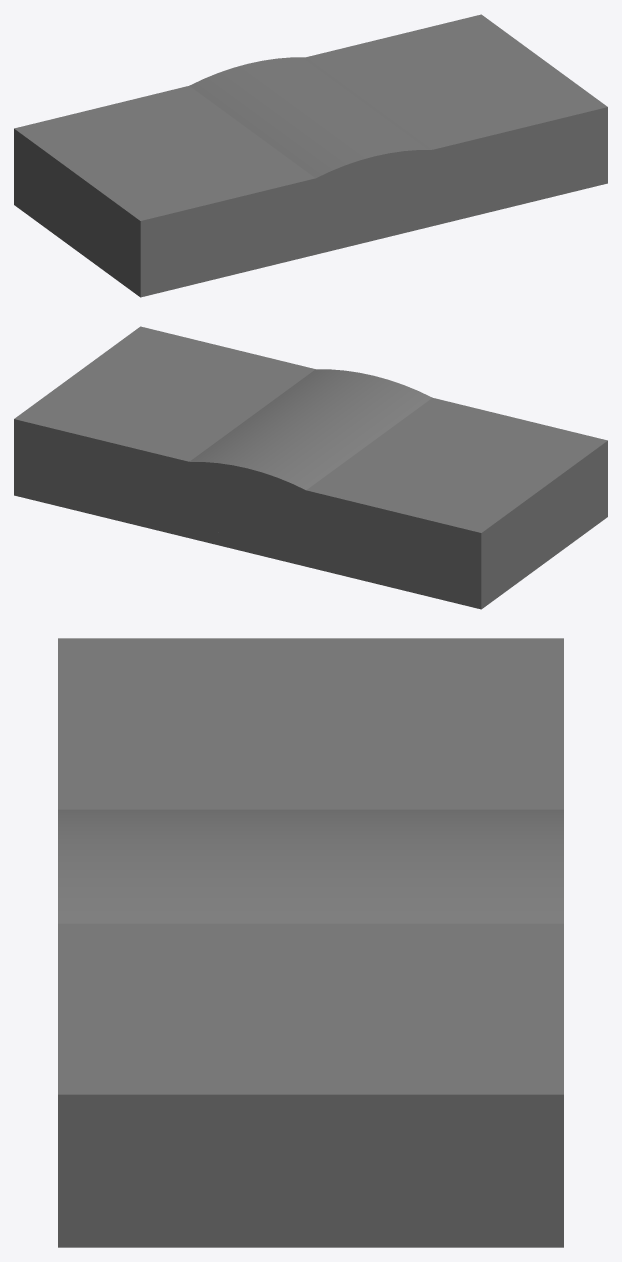
3 renders of one model, top to bottom at view 1: azimuth 30°, elevation 25°; view 2: azimuth 150°, elevation 25°; view 3: azimuth 270°, elevation 25°, orthographic. The views are drawn at different scales.
Parts seen in each view (by area): view 1: mesh_id4, mesh_id5; view 2: mesh_id4, mesh_id5; view 3: mesh_id4, mesh_id5.
Boxes of the visible parts, left/top/right/bottom form: mesh_id4: left=14, top=14, right=607, bottom=297; mesh_id5: left=189, top=57, right=432, bottom=243; mesh_id4: left=14, top=326, right=607, bottom=609; mesh_id5: left=189, top=369, right=432, bottom=555; mesh_id4: left=58, top=638, right=563, bottom=1247; mesh_id5: left=58, top=809, right=563, bottom=923.
Bounding box in the file's own units: 0.512 × 0.088 × 0.24.
2 materials, 2 textured.
